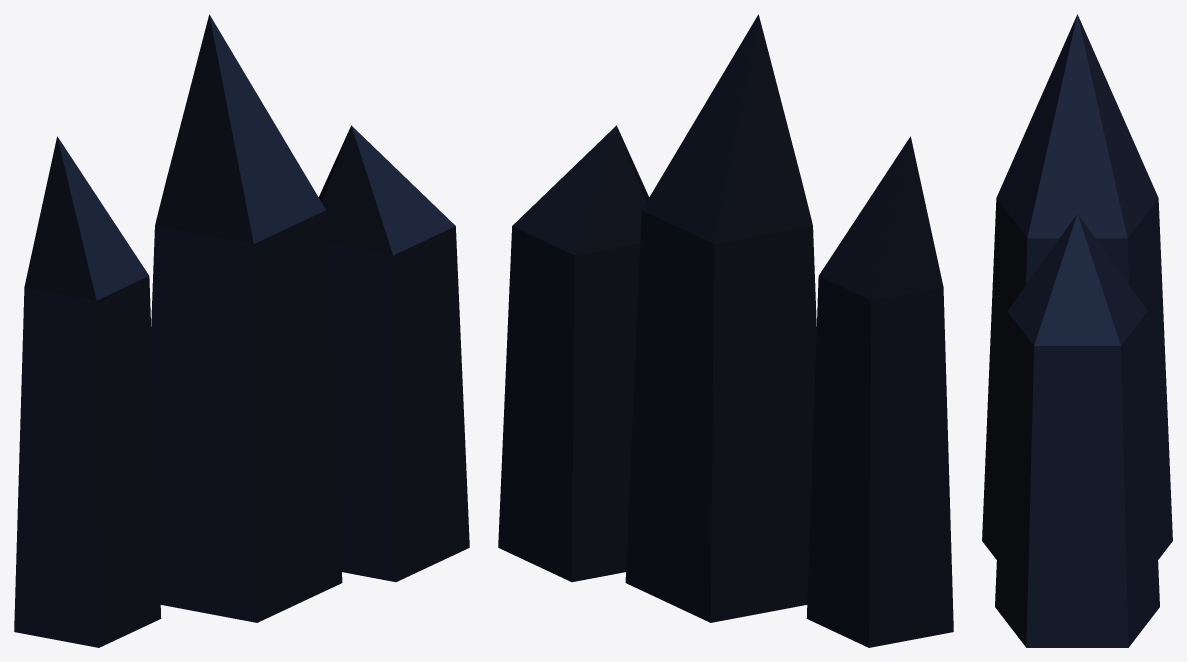
File: background_spires.obj
3 views of the same model, side by side, from view 1: azimuth 30°, elevation 25°; view 2: azimuth 150°, elevation 25°; view 3: azimuth 270°, elevation 25° (orthographic). The views are drawn at different scales.
Visible parts, largest first — view 1: background_spires_M1, background_spires_M0, background_spires_M2; view 2: background_spires_M1, background_spires_M0; view 3: background_spires_M2, background_spires_M0, background_spires_M3, background_spires_M1.
Boxes of the visible parts, x1,y1,x2,y2 form: background_spires_M1: [24, 14, 469, 647]; background_spires_M0: [14, 225, 395, 647]; background_spires_M2: [57, 14, 455, 300]; background_spires_M1: [572, 14, 953, 647]; background_spires_M0: [498, 14, 910, 647]; background_spires_M2: [996, 16, 1128, 647]; background_spires_M0: [1078, 16, 1172, 647]; background_spires_M3: [1027, 14, 1127, 345]; background_spires_M1: [982, 198, 1033, 647].
Size of the model in its own units: 1.69 by 2.15 by 0.7038.
